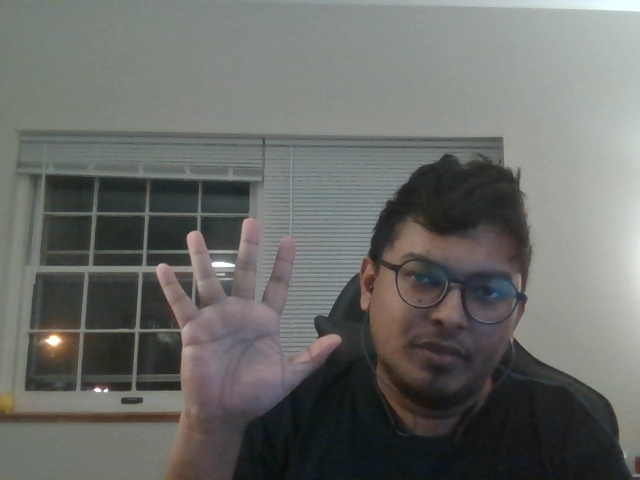hello: (138, 204, 361, 424)
